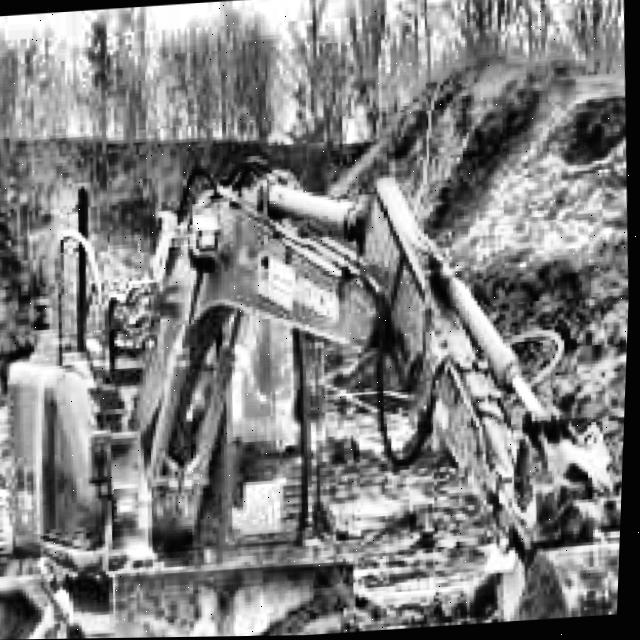excavator: (0, 99, 637, 640)
